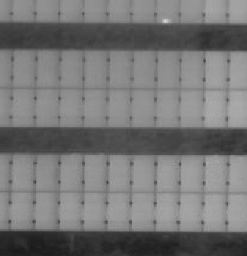solar: (9, 48, 39, 90), (33, 47, 63, 89), (56, 47, 86, 89), (82, 47, 112, 89), (105, 47, 135, 89), (129, 47, 159, 89), (153, 47, 183, 89), (177, 47, 207, 89), (201, 48, 231, 90), (200, 86, 230, 128), (176, 86, 206, 128), (153, 86, 183, 128), (127, 86, 157, 128), (104, 86, 134, 128), (80, 86, 110, 128), (56, 86, 86, 128), (32, 86, 62, 128), (8, 86, 38, 128), (8, 150, 38, 192), (31, 152, 61, 194), (56, 152, 86, 194), (81, 152, 111, 194), (103, 152, 133, 194), (128, 152, 158, 194), (152, 153, 182, 195), (176, 153, 206, 195), (201, 153, 231, 195), (201, 190, 231, 232), (176, 191, 206, 233), (152, 191, 182, 233), (127, 191, 157, 233), (103, 190, 133, 232), (79, 190, 109, 232), (56, 190, 86, 232), (31, 189, 61, 231), (6, 189, 36, 231)
